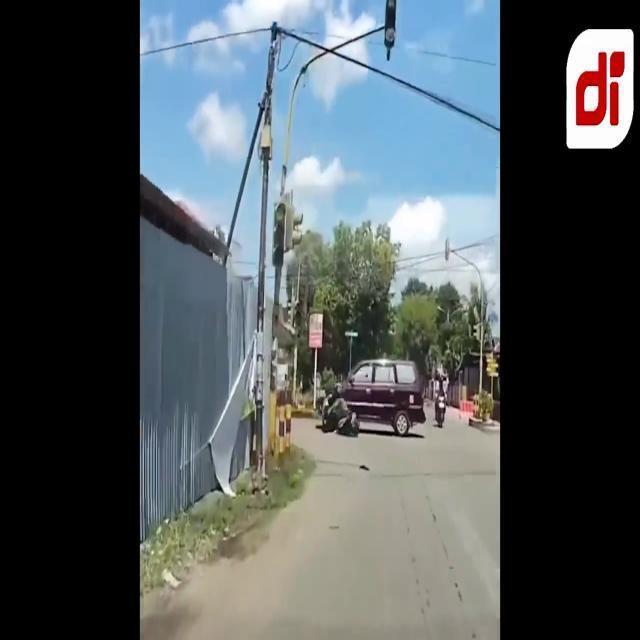accident: (316, 359, 426, 439)
